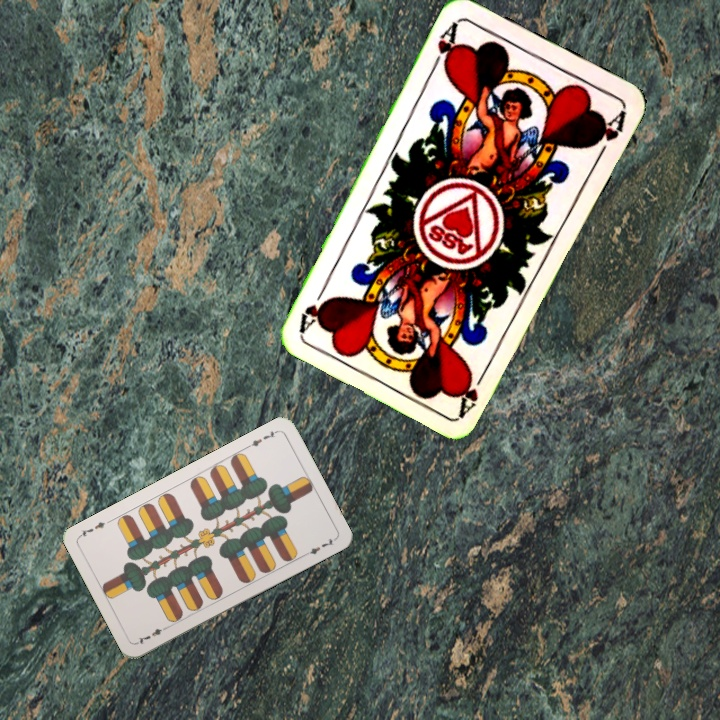E7: (133, 622, 171, 647), (243, 426, 280, 451)
HA: (454, 362, 491, 417), (427, 17, 462, 73)
